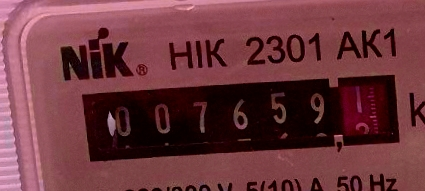0: (111, 101, 134, 141), (150, 99, 174, 137)
1: (349, 80, 367, 117)
5: (268, 88, 289, 126)
6: (228, 95, 251, 132)
7: (188, 97, 210, 135)
9: (306, 89, 328, 127)
screen: (72, 68, 409, 170)
